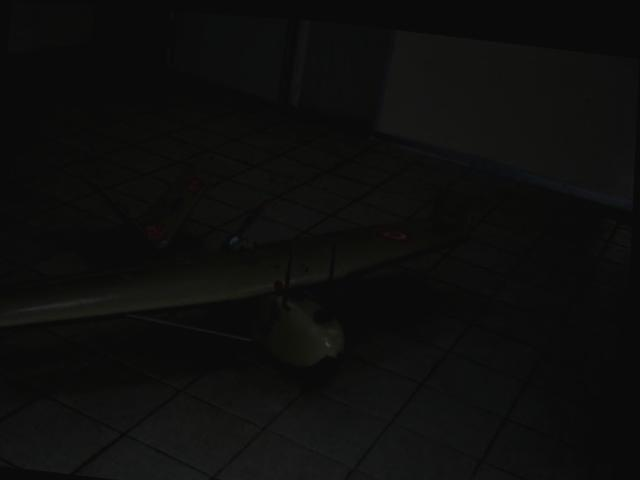iha: (0, 149, 470, 381)
